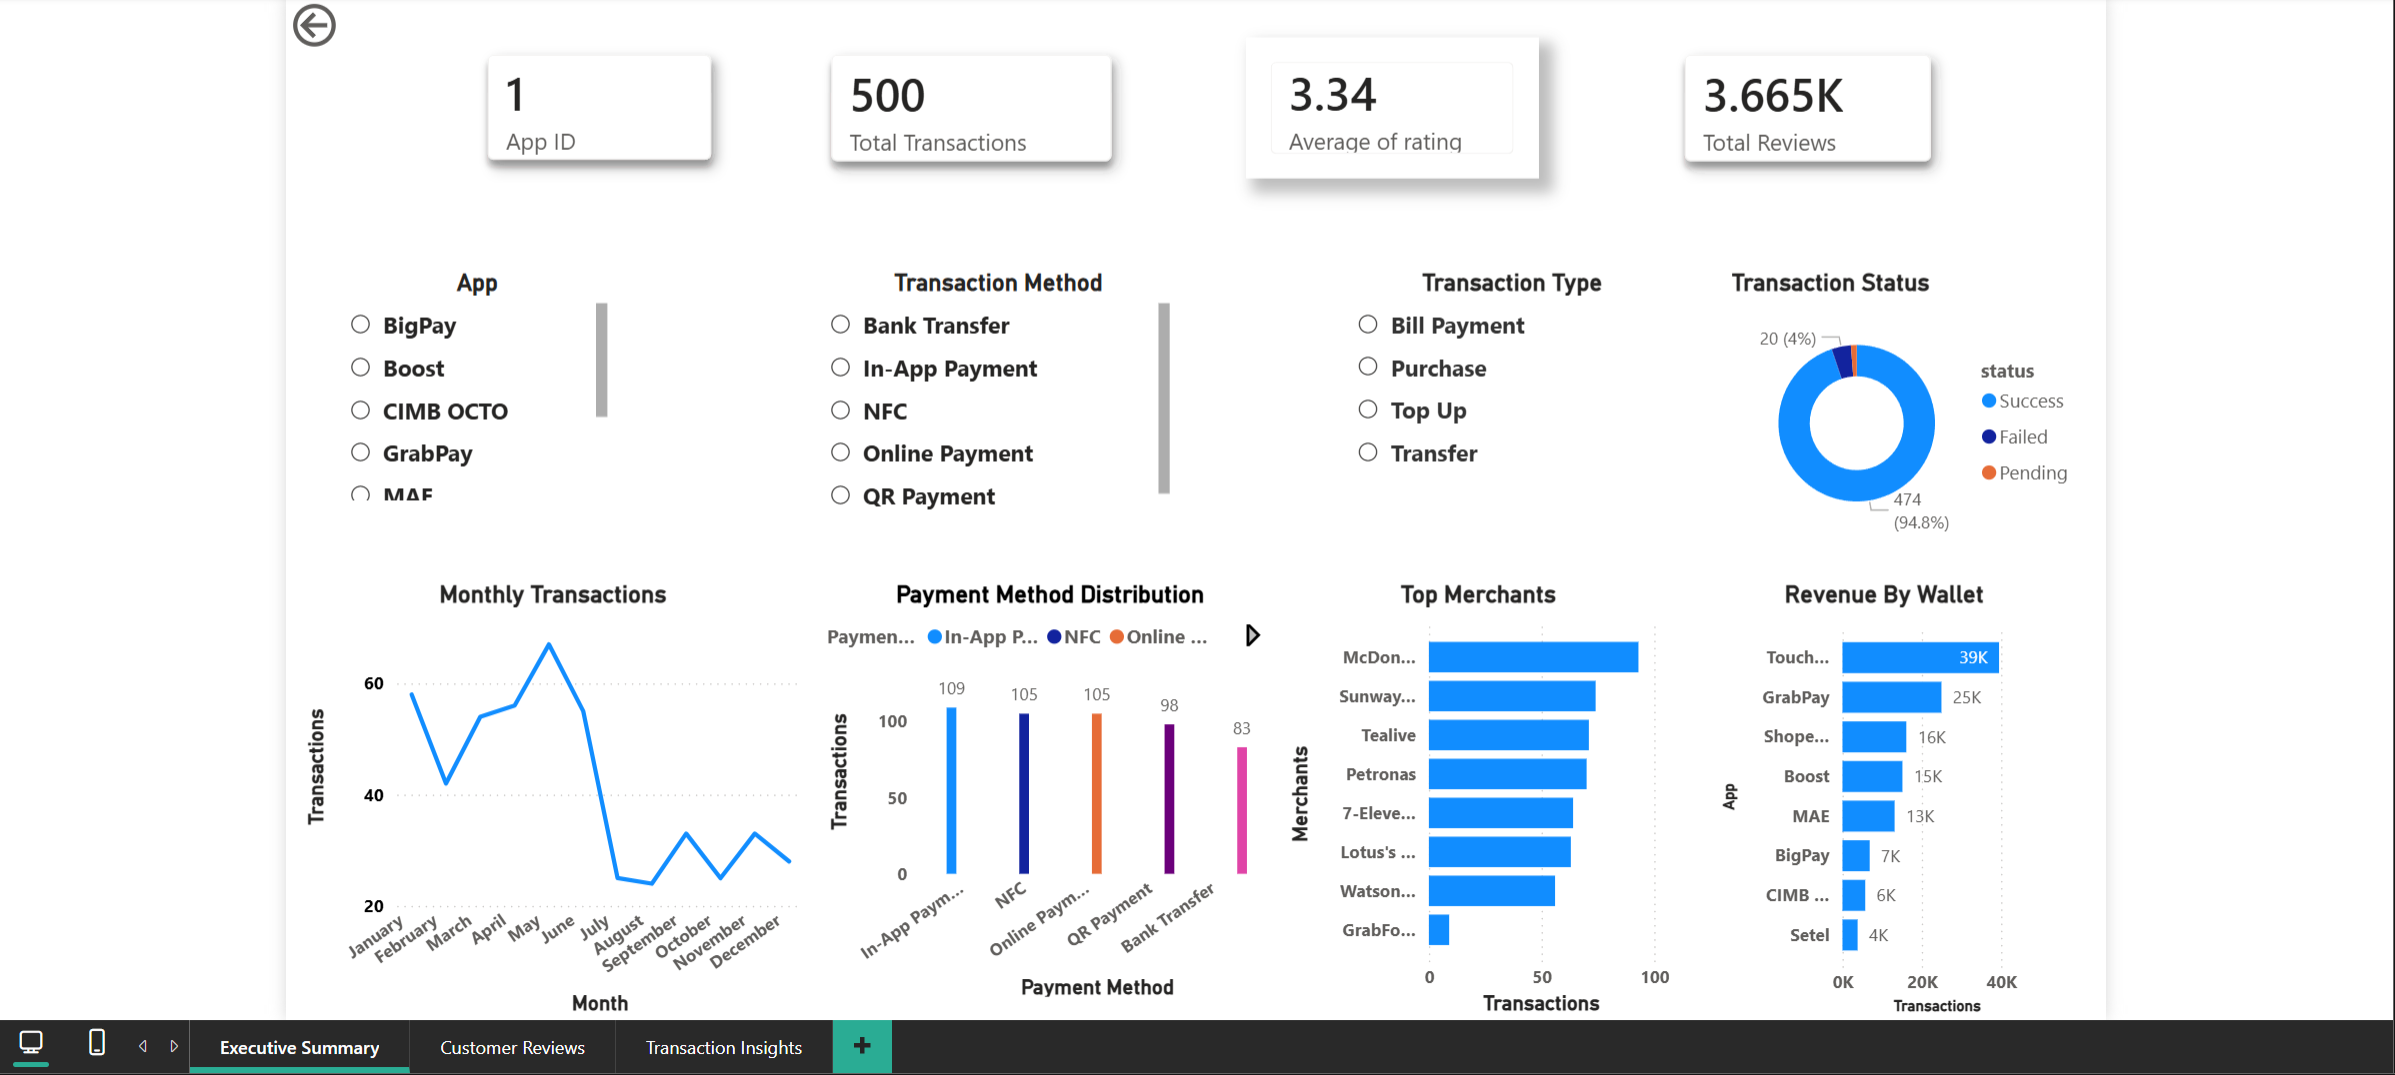

This screenshot's page, from the dashboard's own definition file:
{"tool":"powerbi","page":{"name":"Executive Summary","canvas":[1280,720],"ordinal":0},"visuals":[{"type":"actionButton","box":[0,0,100,40],"z":0},{"type":"listSlicer","fields":{"Values":["public apps.app_name"]},"box":[38.4,191,192.1,198.5],"z":1000},{"type":"listSlicer","fields":{"Values":["public transactions.transaction_type"]},"box":[747,191,230.5,206],"z":2000},{"type":"listSlicer","fields":{"Values":["public transactions.payment_method"]},"box":[375.7,191,250.8,198.5],"z":3000},{"type":"lineChart","title":" Monthly Transactions","fields":{"Y":["CountNonNull(public transactions.transaction_id)"],"Category":["public transactions.transaction_date.Variation.Date Hierarchy.Month","public transactions.transaction_date.Variation.Date Hierarchy.Day"]},"box":[7.4,410.3,360.7,310.1],"z":4000},{"type":"clusteredColumnChart","title":"Payment Method Distribution","fields":{"Category":["public transactions.payment_method"],"Series":["public transactions.payment_method"],"Y":["CountNonNull(public transactions.transaction_id)"]},"box":[375.6,409.7,323.2,309.6],"z":5000},{"type":"donutChart","title":"Transaction Status","fields":{"Category":["public transactions.status"],"Y":["Count(public transactions.transaction_id)"]},"box":[1011.5,190.9,256.3,198.3],"z":6000},{"type":"clusteredBarChart","title":"Top Merchants","fields":{"Category":["public merchants.merchant_name"],"Y":["Count(public transactions.transaction_id)"]},"box":[709.7,409.8,278.5,310.6],"z":7000},{"type":"clusteredBarChart","title":"Revenue By Wallet","fields":{"Category":["public apps.app_name"],"Y":["Sum(public transactions.transaction_id)"]},"box":[1003.8,409.7,262.9,310.7],"z":8000},{"type":"cardVisual","fields":{"Data":["Min(public transactions.app_id)"]},"box":[76.3,19.3,240.1,150.2],"z":9000},{"type":"cardVisual","fields":{"Data":["Avg(public reviews.rating)"]},"box":[979.9,19.3,286.8,149.1],"z":10000},{"type":"cardVisual","fields":{"Data":["CountNonNull(public reviews.review_id)"]},"box":[687.4,20.5,267.5,149.1],"z":11000},{"type":"cardVisual","fields":{"Data":["CountNonNull(public transactions.transaction_id)"]},"box":[373.3,19.3,256.1,149.1],"z":12000}]}

Visuals, with their boxes on the page's 1280x720 design canvas (x1, y1, x2, y2). These are canvas units, not pixel positions in the 2395x1075 screenshot, which may show the page scaled, cropped or inside an application window:
actionButton: pyautogui.locateOnScreen(0, 0, 100, 40)
listSlicer - public apps.app_name: pyautogui.locateOnScreen(38, 191, 230, 390)
listSlicer - public transactions.transaction_type: pyautogui.locateOnScreen(747, 191, 978, 397)
listSlicer - public transactions.payment_method: pyautogui.locateOnScreen(376, 191, 626, 390)
" Monthly Transactions" lineChart: pyautogui.locateOnScreen(7, 410, 368, 720)
"Payment Method Distribution" clusteredColumnChart: pyautogui.locateOnScreen(376, 410, 699, 719)
"Transaction Status" donutChart: pyautogui.locateOnScreen(1012, 191, 1268, 389)
"Top Merchants" clusteredBarChart: pyautogui.locateOnScreen(710, 410, 988, 720)
"Revenue By Wallet" clusteredBarChart: pyautogui.locateOnScreen(1004, 410, 1267, 720)
cardVisual - Min(public transactions.app_id): pyautogui.locateOnScreen(76, 19, 316, 170)
cardVisual - Avg(public reviews.rating): pyautogui.locateOnScreen(980, 19, 1267, 168)
cardVisual - CountNonNull(public reviews.review_id): pyautogui.locateOnScreen(687, 20, 955, 170)
cardVisual - CountNonNull(public transactions.transaction_id): pyautogui.locateOnScreen(373, 19, 629, 168)
